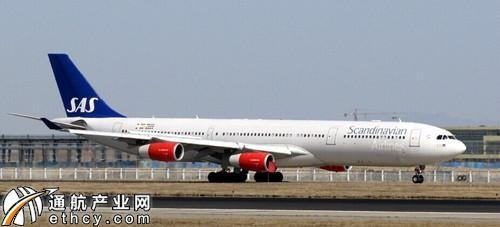airplane: (16, 50, 469, 180)
